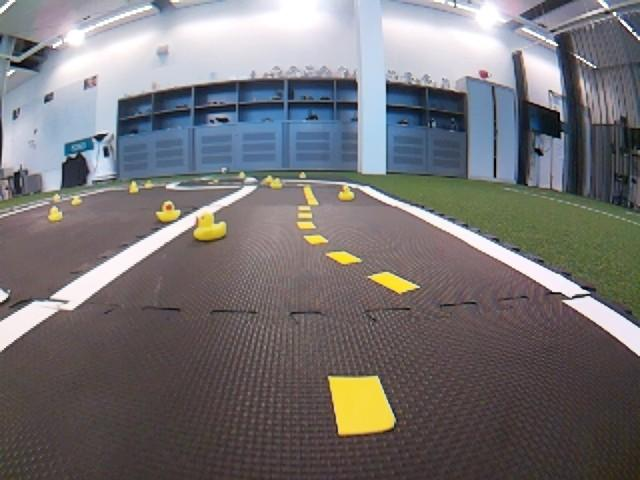Duckies: (194, 212, 226, 240), (155, 201, 180, 223), (337, 186, 353, 201), (49, 207, 63, 220), (129, 180, 139, 193), (271, 178, 282, 188), (71, 196, 83, 205), (263, 175, 272, 184), (52, 193, 60, 200), (145, 181, 152, 188), (237, 173, 245, 179), (299, 172, 306, 178)
